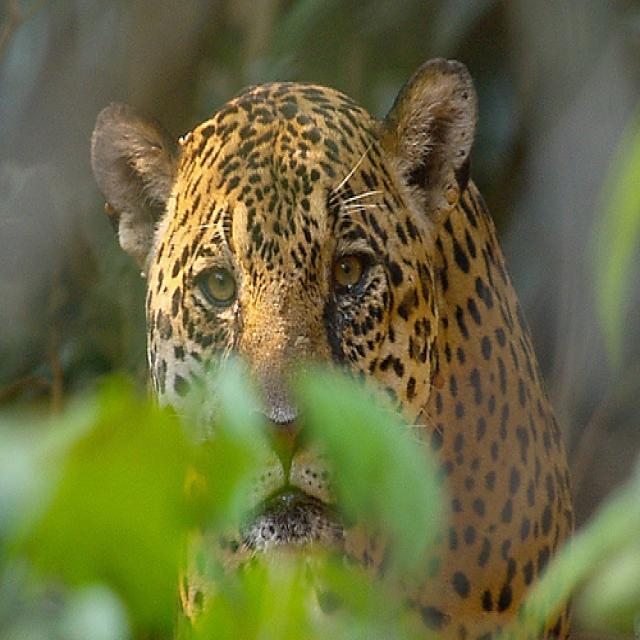Leopard: (88, 53, 576, 636)
